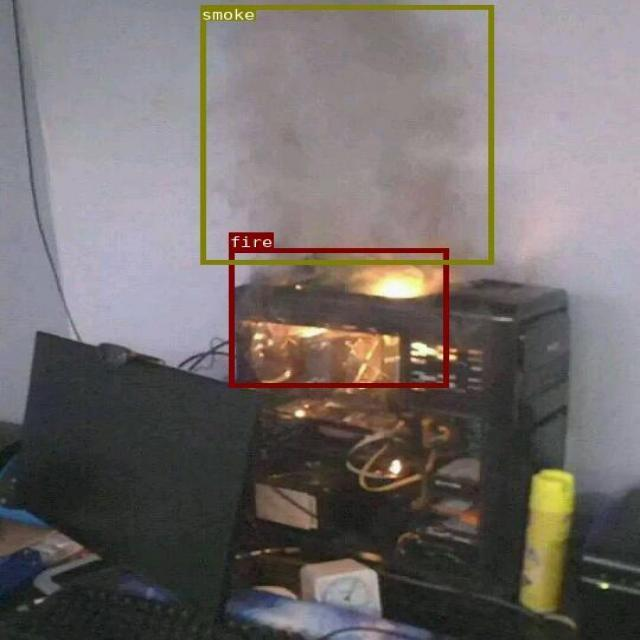fire: (228, 247, 447, 387)
smoke: (200, 5, 492, 264)
